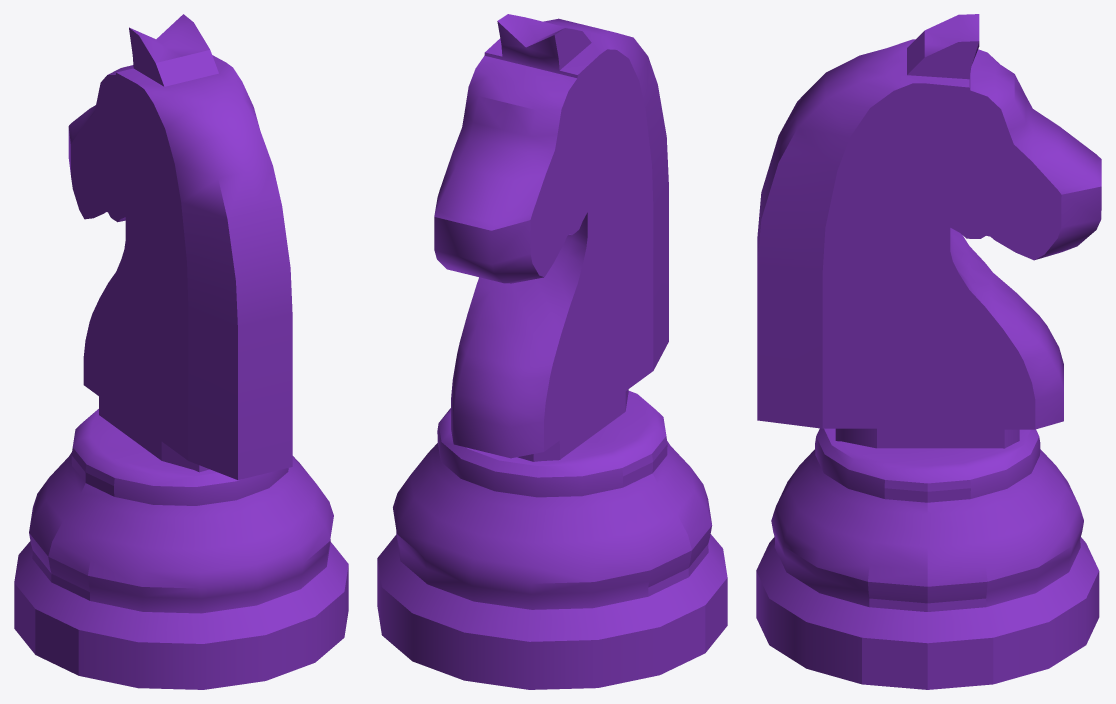
Rendered from knight.obj.
3 renders of one model, left to right at view 1: azimuth 30°, elevation 25°; view 2: azimuth 150°, elevation 25°; view 3: azimuth 270°, elevation 25°, orthographic. The views are drawn at different scales.
Visible parts, largest first — view 1: KNIGHT; view 2: KNIGHT; view 3: KNIGHT.
Boxes of the visible parts, x1,y1,x2,y2 form: KNIGHT: [14, 14, 348, 689]; KNIGHT: [377, 14, 727, 689]; KNIGHT: [756, 14, 1101, 689].
Bounding box in the file's own units: 0.5712 × 1.08 × 0.5755.
